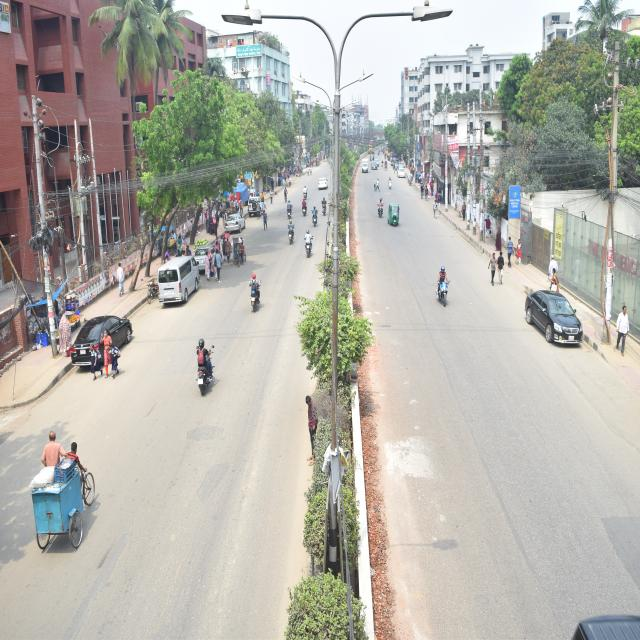car: (513, 276, 602, 372), (66, 293, 137, 386), (191, 230, 226, 287), (244, 184, 272, 237), (221, 202, 247, 248), (317, 175, 330, 196), (372, 158, 379, 175)
microbus: (150, 244, 214, 314)
motorbike: (425, 256, 489, 353), (188, 328, 232, 403), (232, 268, 280, 325), (371, 192, 394, 234), (300, 228, 319, 268), (285, 220, 306, 246), (282, 195, 296, 223), (316, 194, 330, 222), (312, 204, 324, 233), (300, 193, 310, 216)
